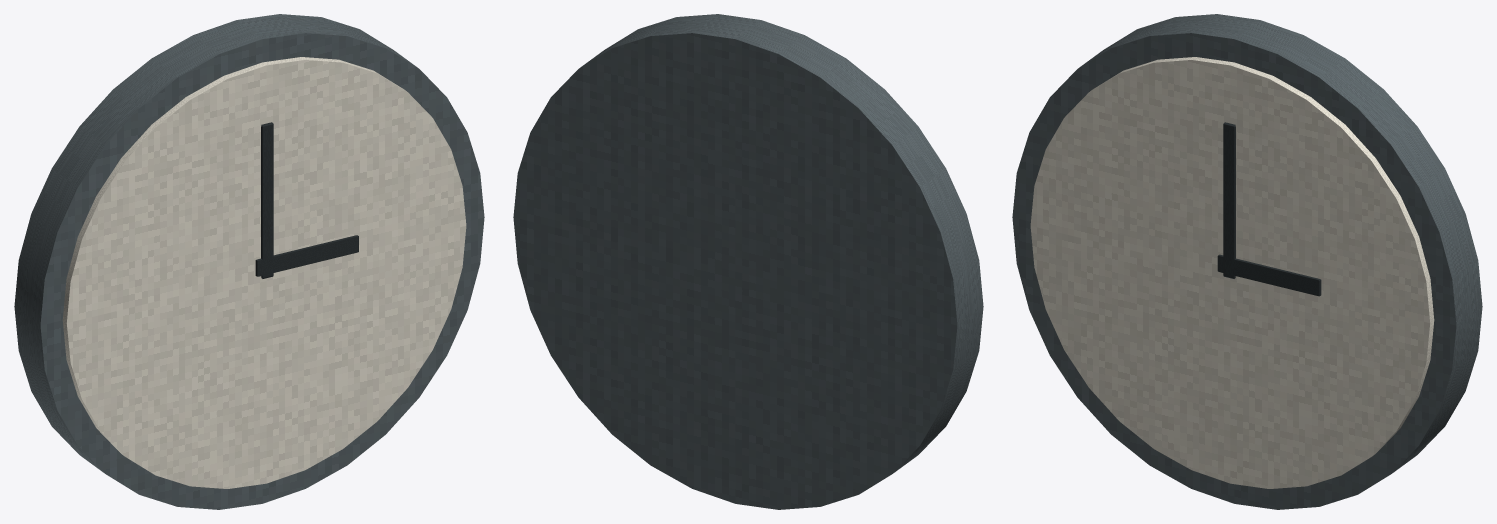
File: clock.glb
The picture shows the model from 3 angles, left to right: view 1: azimuth 30°, elevation 25°; view 2: azimuth 150°, elevation 25°; view 3: azimuth 330°, elevation 25°; orthographic projection.
Parts seen in each view (by area): view 1: face, rim, hour, minute; view 2: rim; view 3: face, rim, minute, hour.
Part boxes in pixels (left/top/right/bottom): face: left=62, top=57, right=466, bottom=488; rim: left=14, top=14, right=484, bottom=509; hour: left=255, top=235, right=358, bottom=276; minute: left=261, top=122, right=273, bottom=278; rim: left=513, top=14, right=983, bottom=509; face: left=1030, top=57, right=1434, bottom=488; rim: left=1012, top=14, right=1482, bottom=509; minute: left=1223, top=122, right=1235, bottom=278; hour: left=1217, top=254, right=1321, bottom=296.
Size of the model in its own units: 0.31 by 0.31 by 0.0383.
3 materials, 3 textured.
